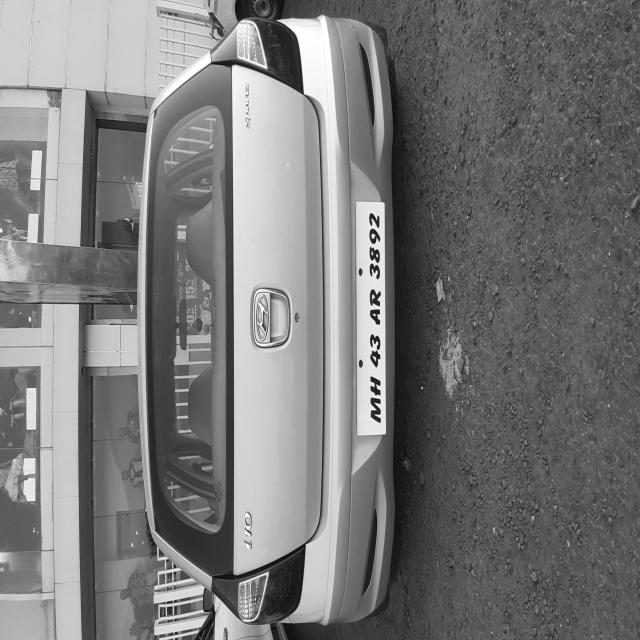car: (0, 266, 311, 640)
